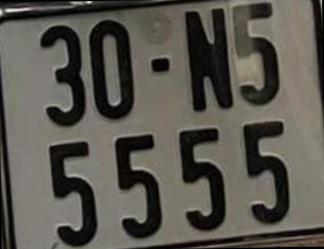-: (150, 54, 172, 72)
0: (90, 18, 139, 122)
3: (40, 24, 87, 128)
5: (47, 138, 101, 245), (234, 1, 286, 109), (112, 131, 163, 238), (244, 118, 293, 225), (178, 126, 227, 231)
N: (183, 5, 235, 111)
